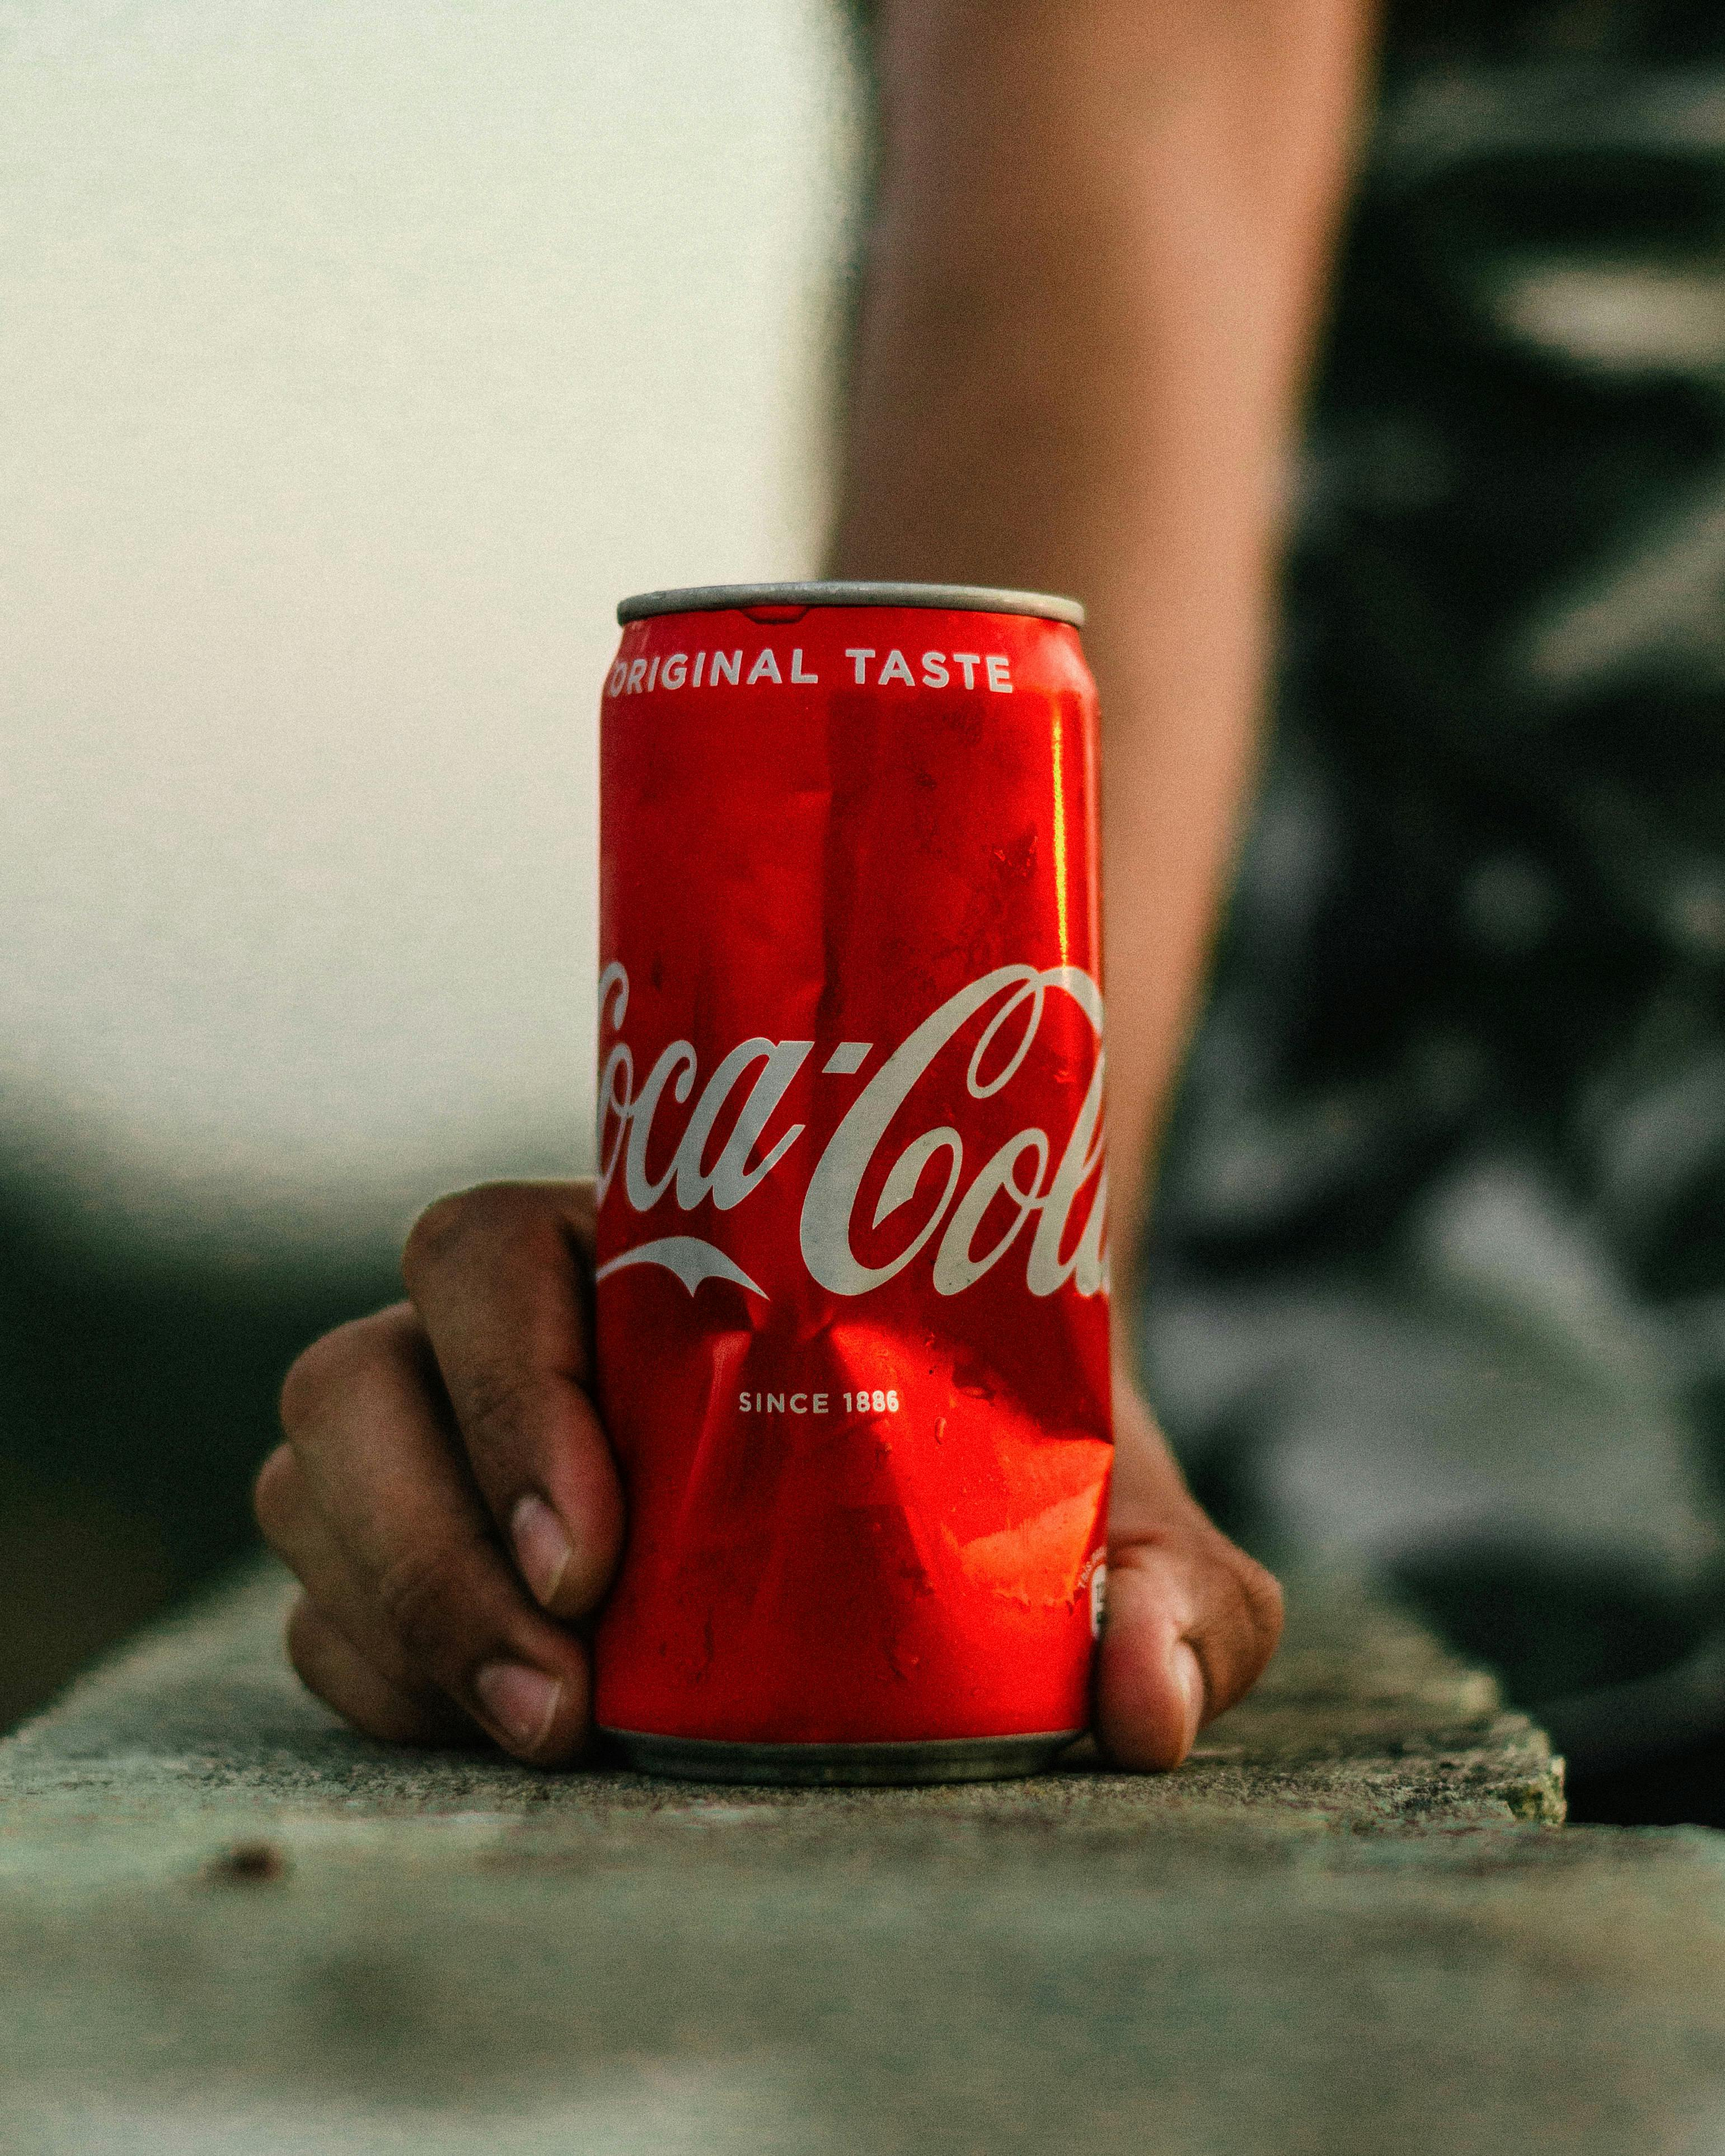COCOCOLA: (599, 595, 1094, 1730)
